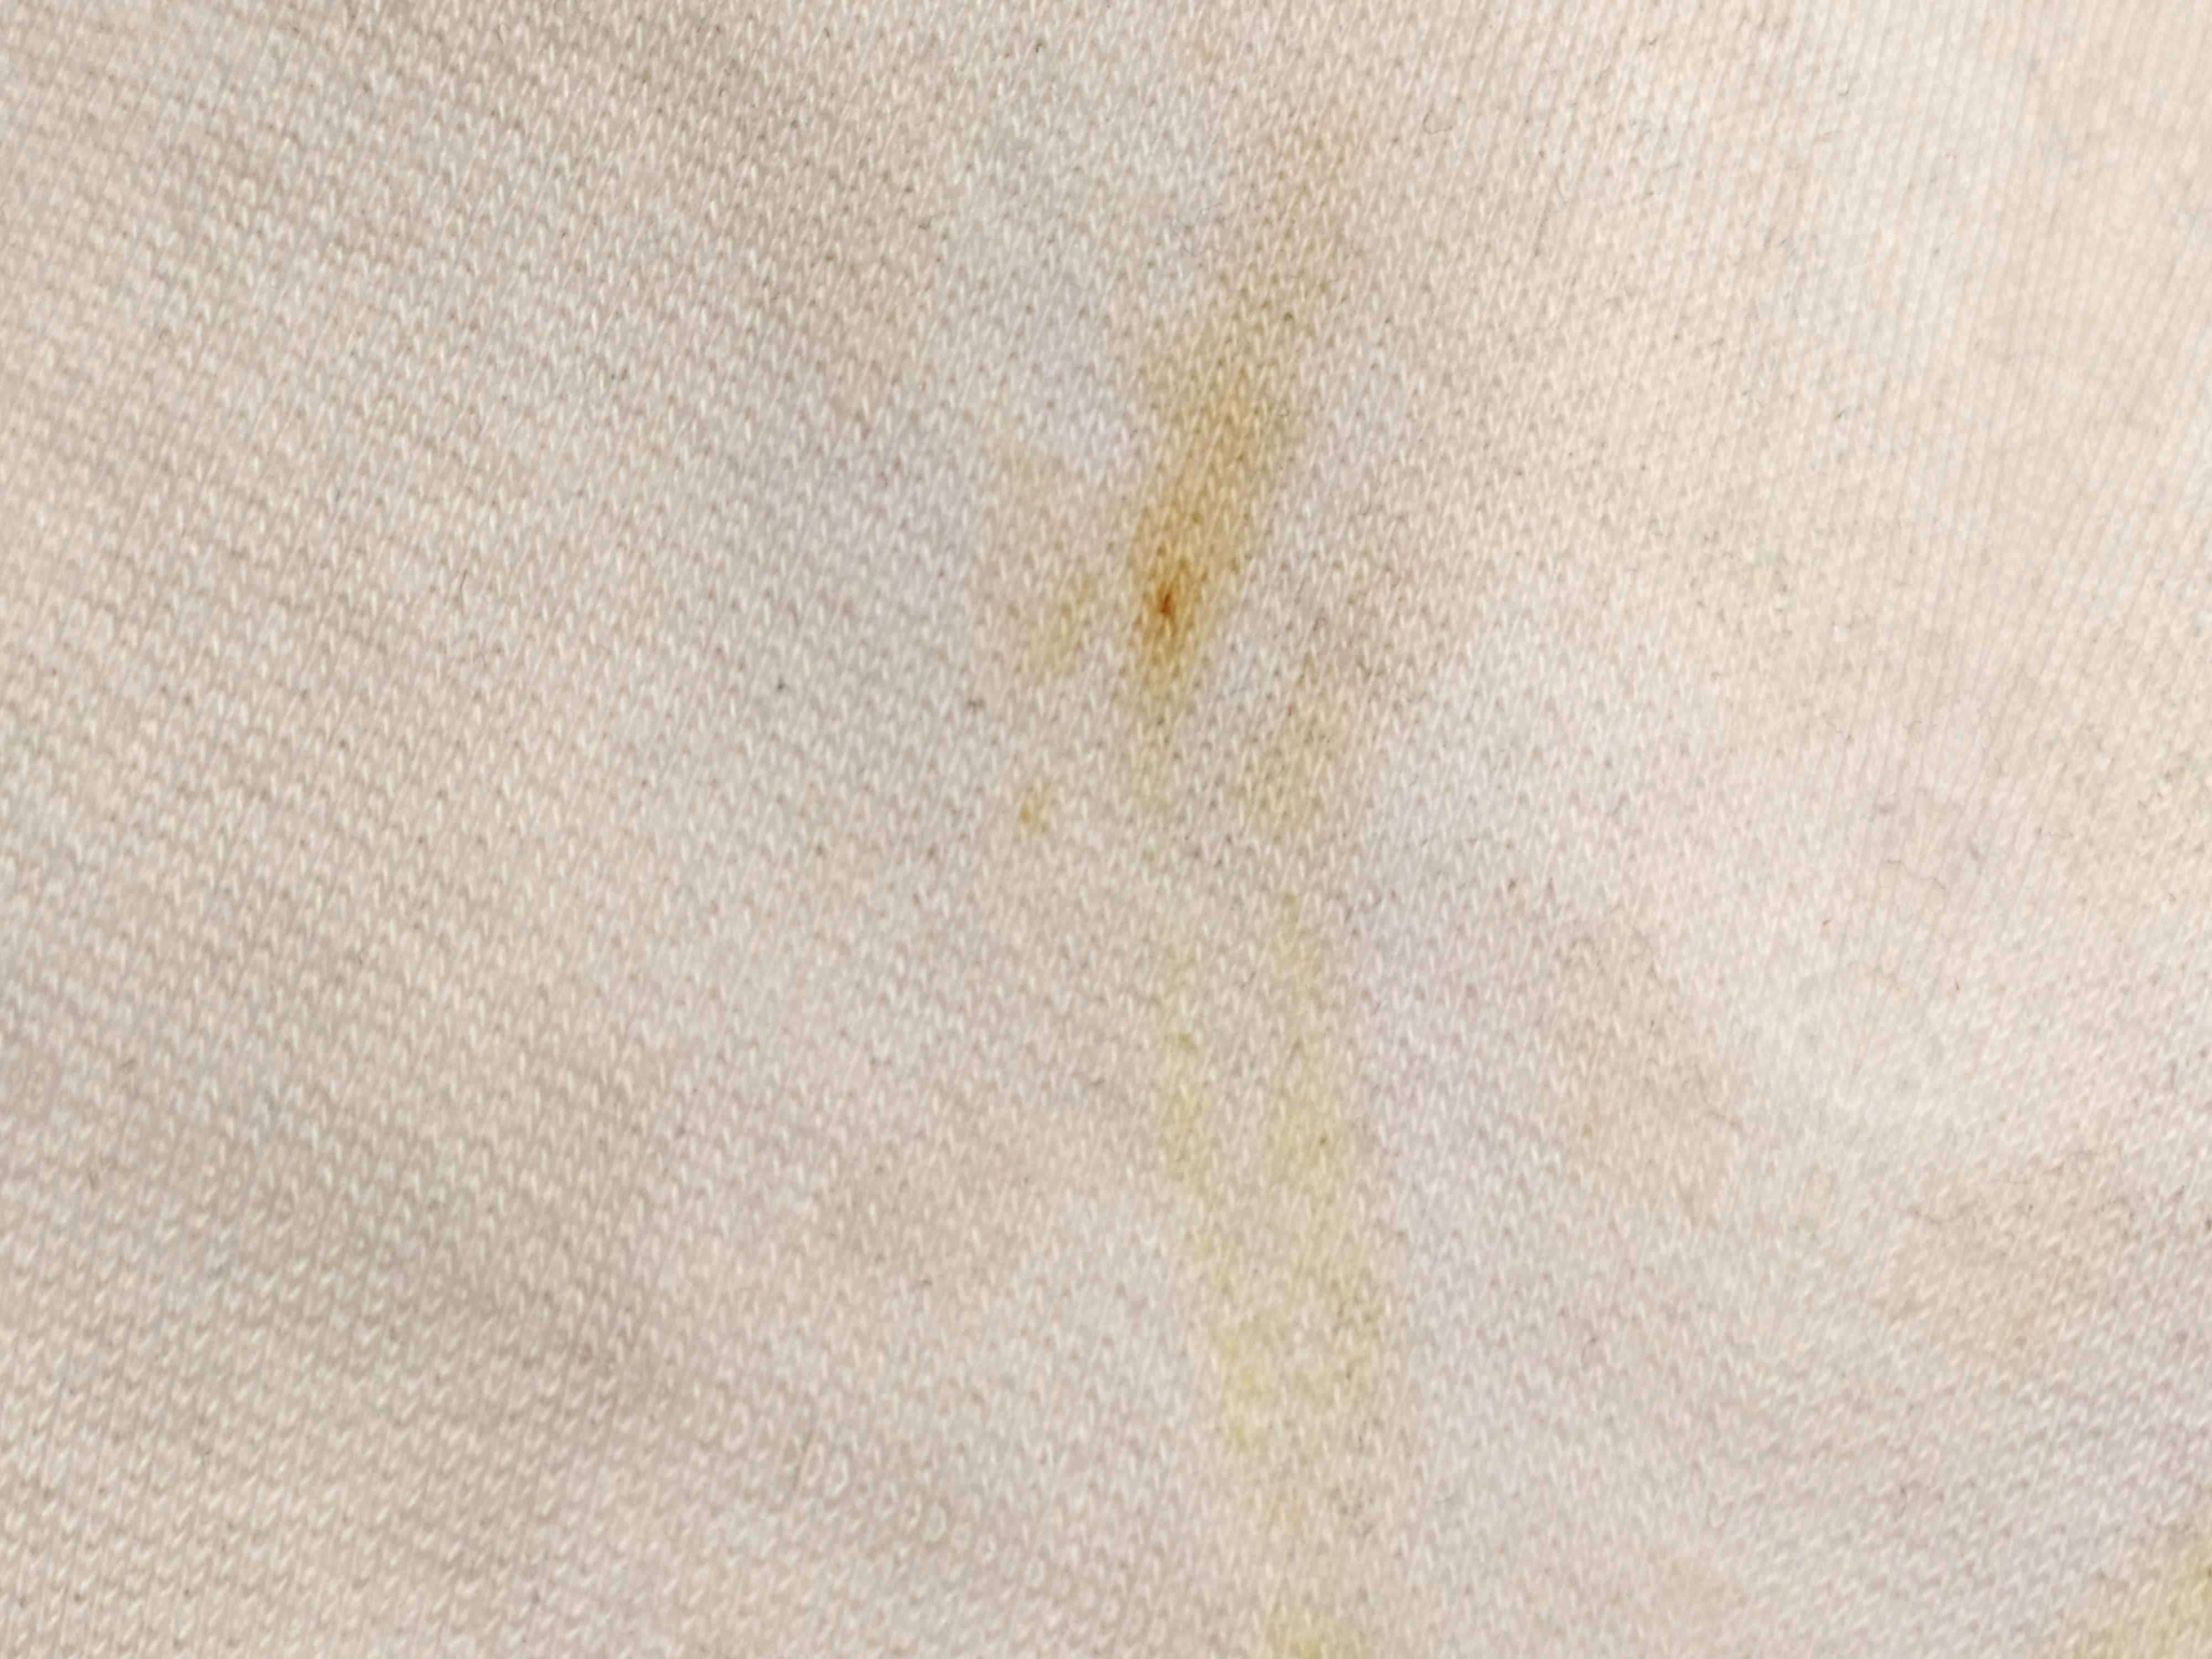stain: (1118, 328, 1308, 676)
